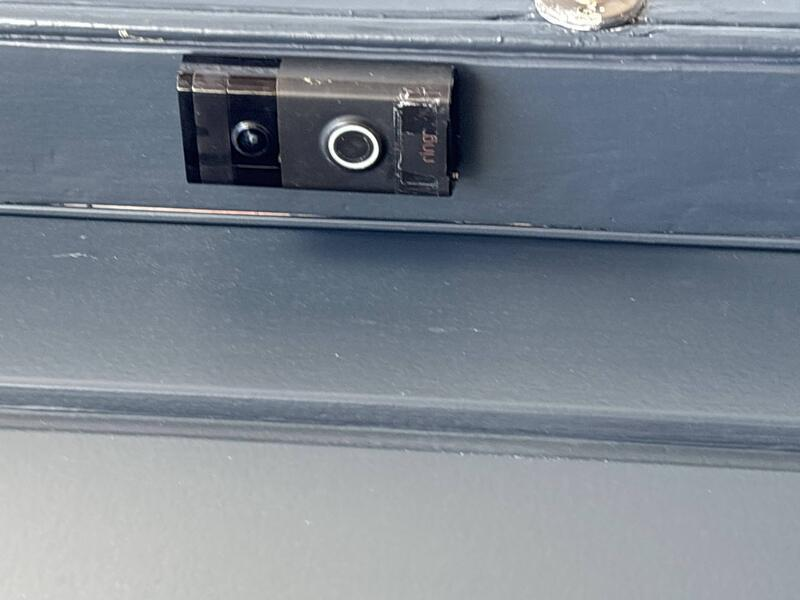doorbell: (404, 162, 543, 463)
